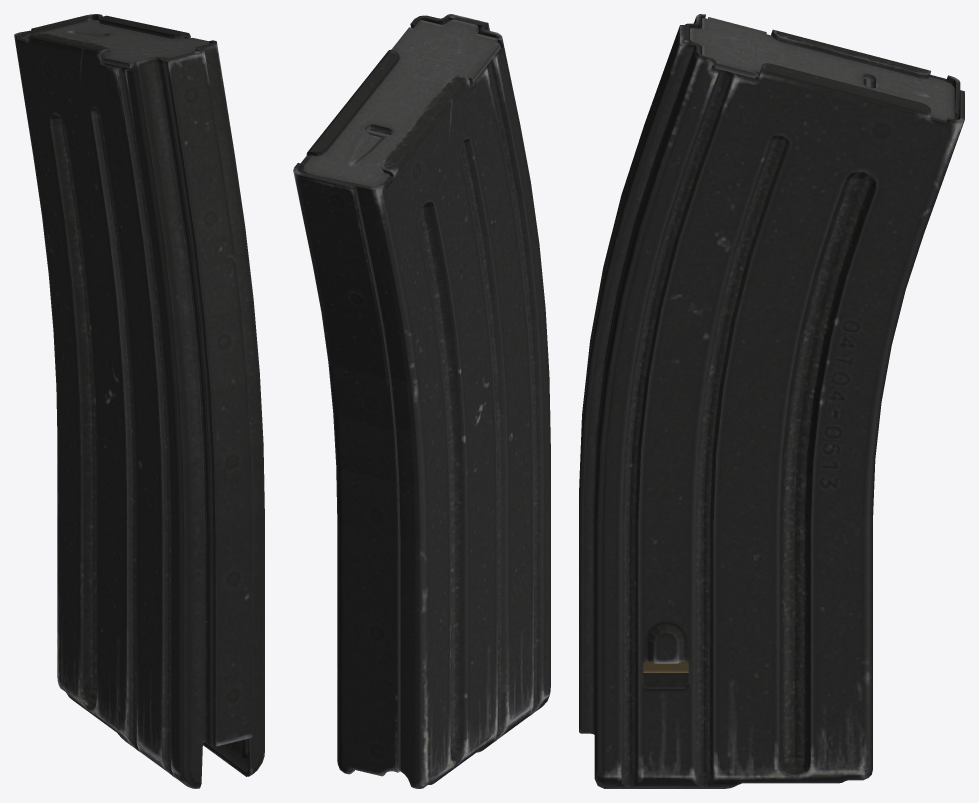
3 views of the same model, side by side, from view 1: azimuth 30°, elevation 25°; view 2: azimuth 150°, elevation 25°; view 3: azimuth 270°, elevation 25° (orthographic). The views are drawn at different scales.
Visible parts, largest first — view 1: TW_61840bedd92c473c77021635_PZ_Import; view 2: TW_61840bedd92c473c77021635_PZ_Import; view 3: TW_61840bedd92c473c77021635_PZ_Import.
Boxes of the visible parts, box(x1,y1,x2,y2) form: TW_61840bedd92c473c77021635_PZ_Import: box(14, 14, 264, 788); TW_61840bedd92c473c77021635_PZ_Import: box(293, 14, 550, 788); TW_61840bedd92c473c77021635_PZ_Import: box(579, 14, 964, 788).
Size of the model in its own units: 0.014 by 0.0485 by 0.1027.
Materials: 1 (1 with a texture image).
